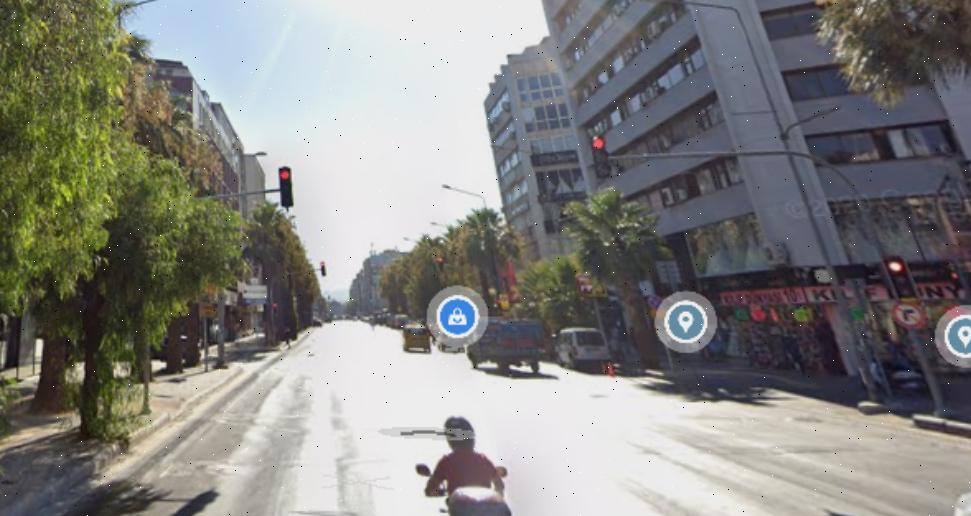redlight: (590, 134, 615, 179), (278, 167, 295, 208)
rightturnsareforbidden: (891, 303, 929, 330)
